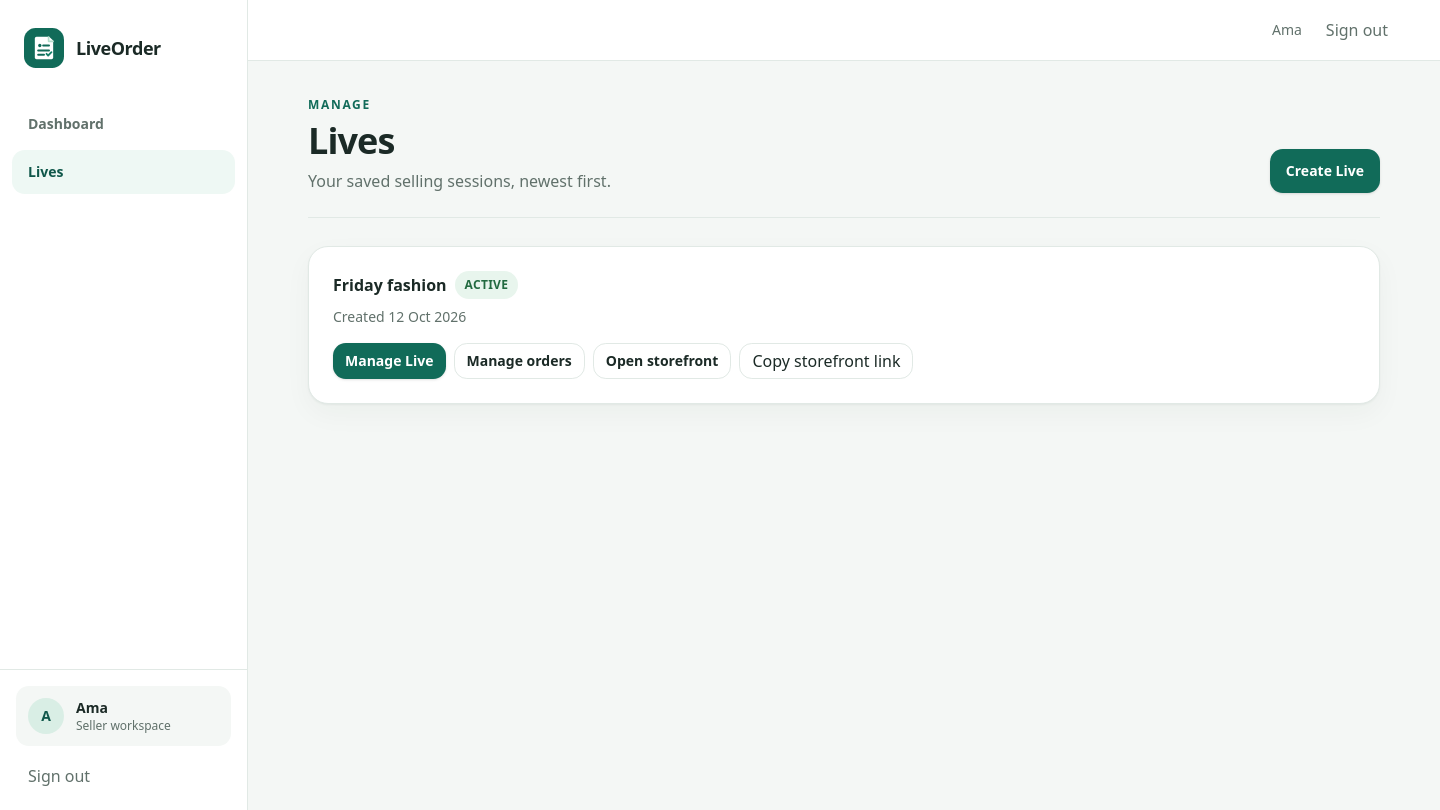
Test: seller Live management › reports clipboard failures with a recovery hint
Step 1. Click the button "Copy storefront link" → (826, 361), box [739,343,914,379]
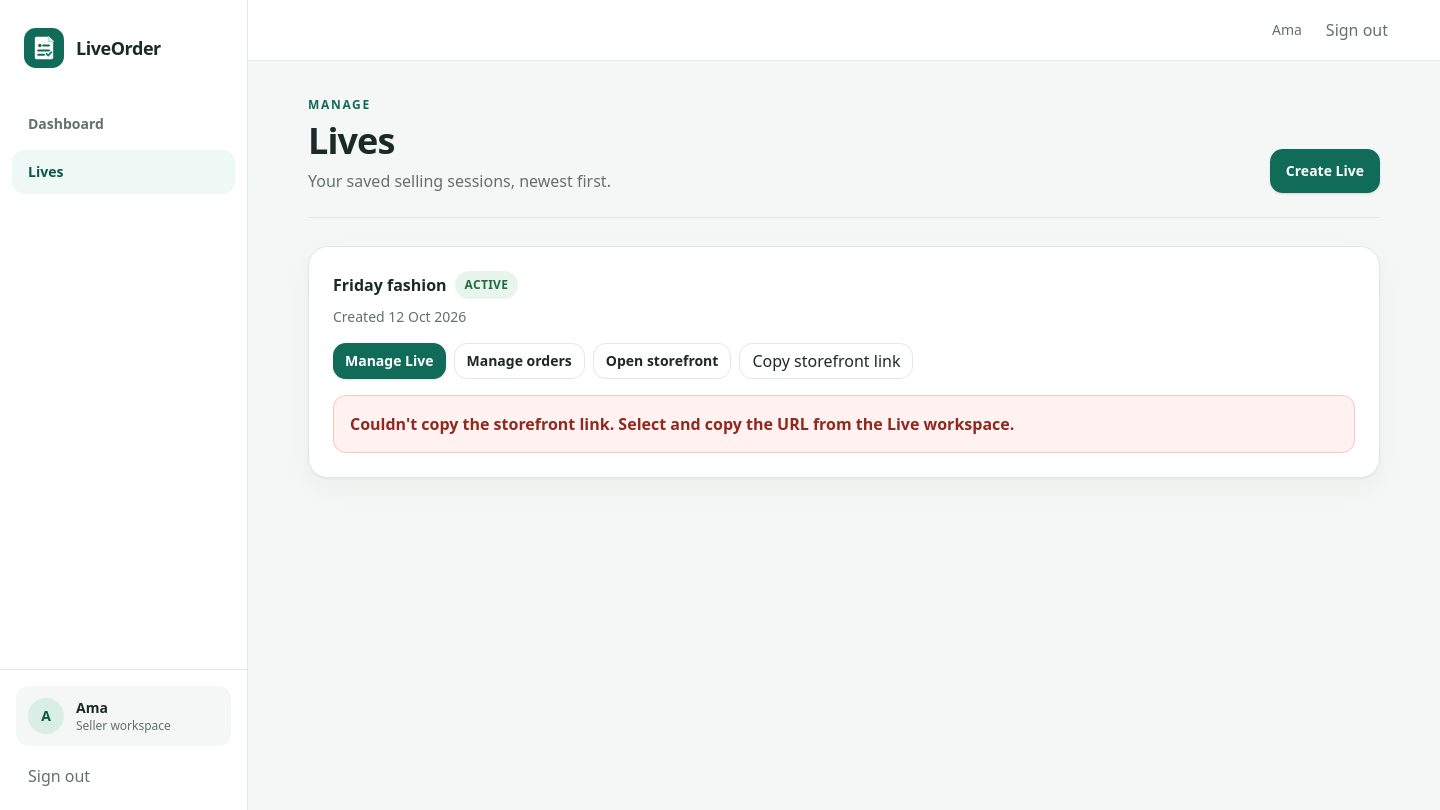
Now the text "Couldn't copy the storefront link. Select and copy the URL from the Live workspace." is shown, box [350,413,1014,435]
